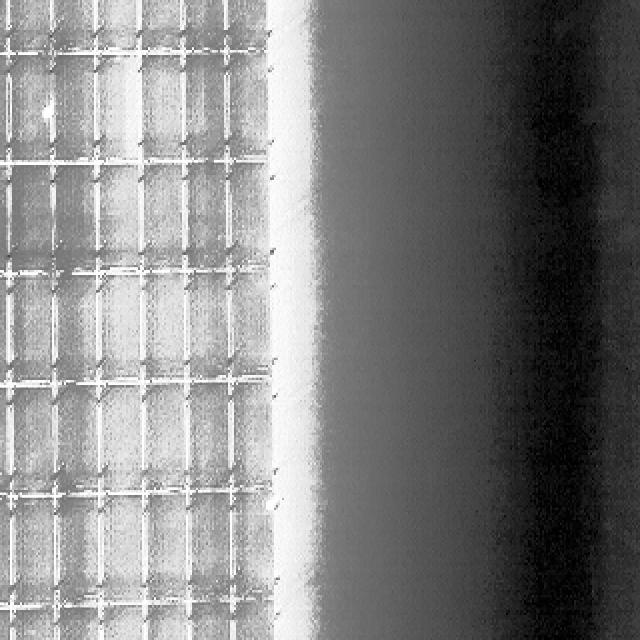Hotspots: (262, 498, 280, 518), (127, 57, 141, 81), (38, 101, 52, 124)
PV-modules: (96, 274, 148, 386), (97, 491, 145, 603), (6, 277, 54, 386), (52, 53, 99, 163), (56, 276, 102, 387), (7, 165, 54, 273), (185, 162, 232, 270), (7, 58, 54, 166), (188, 493, 234, 603), (228, 386, 274, 496), (92, 52, 138, 162), (234, 490, 279, 602), (55, 384, 101, 493), (10, 499, 56, 608), (188, 382, 234, 491), (100, 383, 146, 492), (224, 49, 269, 160), (186, 274, 232, 382), (138, 274, 184, 382), (58, 492, 102, 604), (13, 386, 58, 495), (228, 275, 272, 386), (136, 54, 182, 160), (54, 164, 99, 272), (141, 382, 186, 490), (142, 493, 186, 603), (99, 164, 144, 270), (186, 51, 229, 161), (232, 160, 275, 270), (139, 163, 183, 270), (10, 609, 104, 640), (6, 0, 50, 55), (184, 0, 226, 55), (50, 0, 96, 50), (138, 0, 182, 52), (90, 0, 134, 50), (222, 0, 266, 48), (233, 599, 277, 640), (188, 602, 235, 640), (141, 603, 188, 640), (101, 606, 148, 640), (56, 609, 103, 640), (13, 609, 59, 640), (0, 57, 12, 165), (0, 272, 10, 382), (0, 165, 10, 275), (0, 385, 10, 493), (0, 493, 8, 605), (0, 0, 12, 55), (0, 607, 12, 640)
